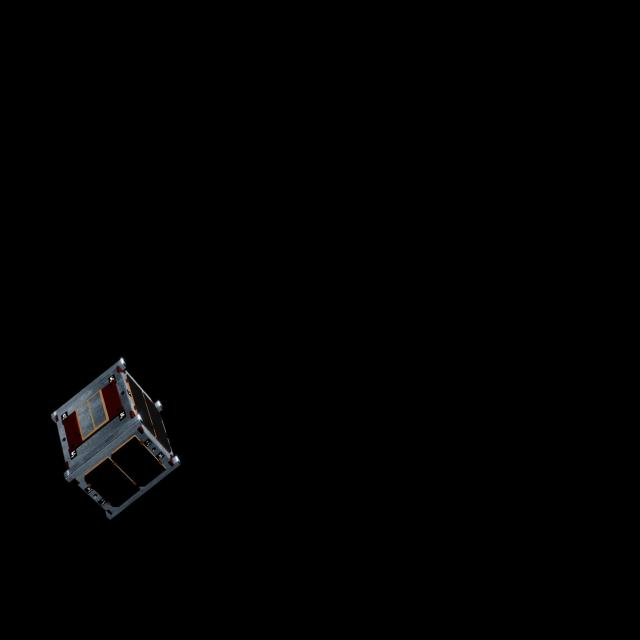medium_debris: (51, 353, 182, 522)
